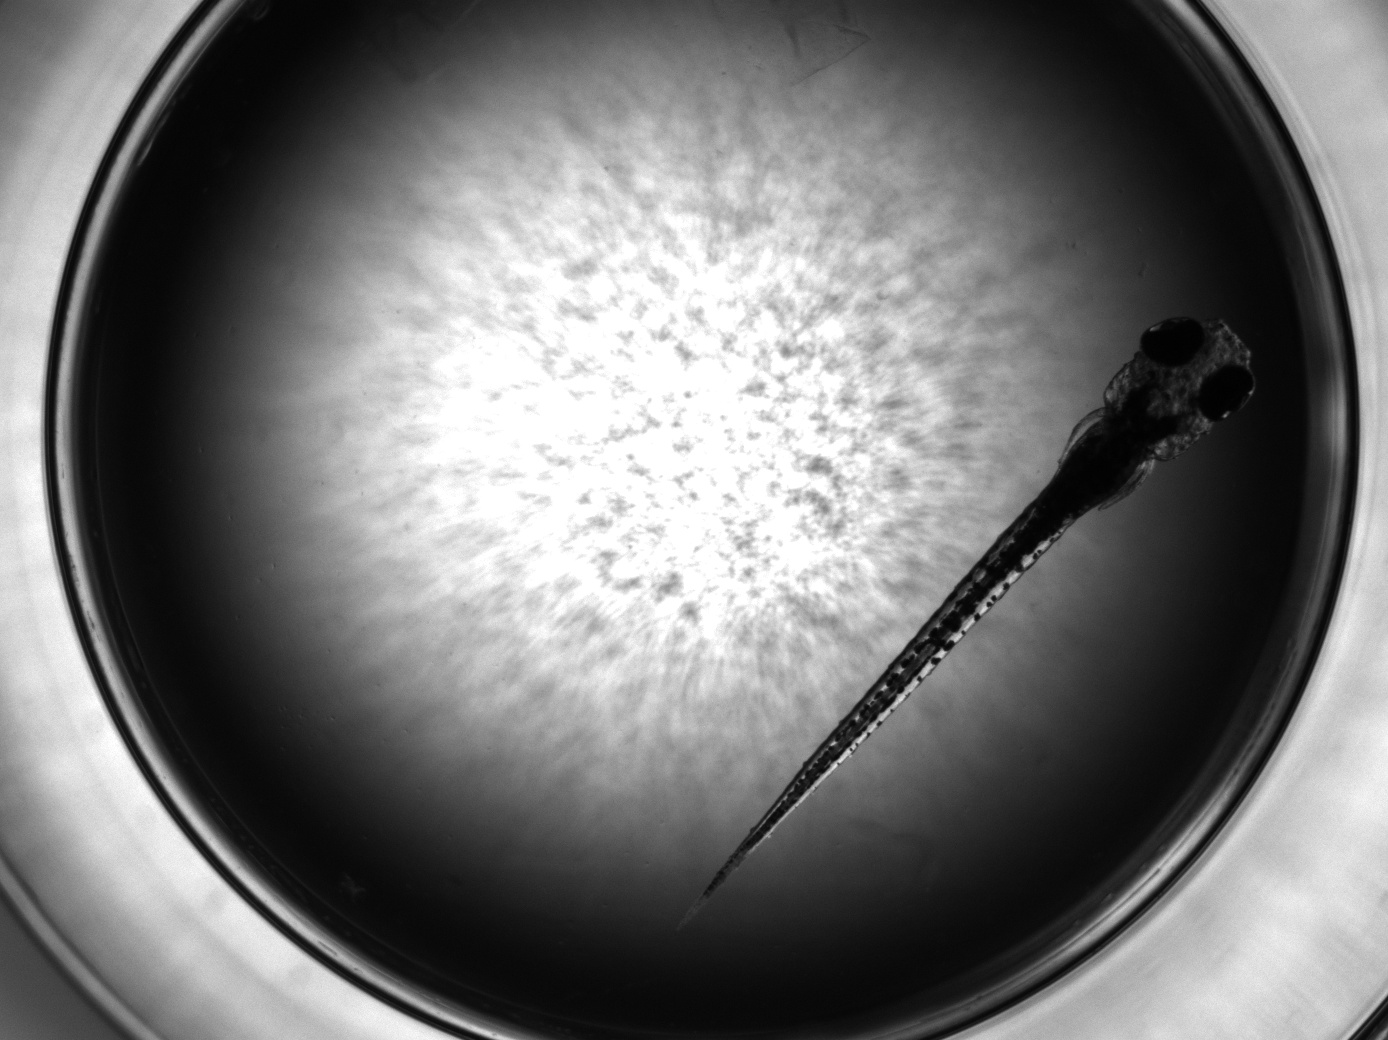embryo: (683, 310, 1258, 930)
eye: (1139, 315, 1205, 368), (1197, 365, 1255, 424)
yolksac: (1047, 417, 1148, 512)
